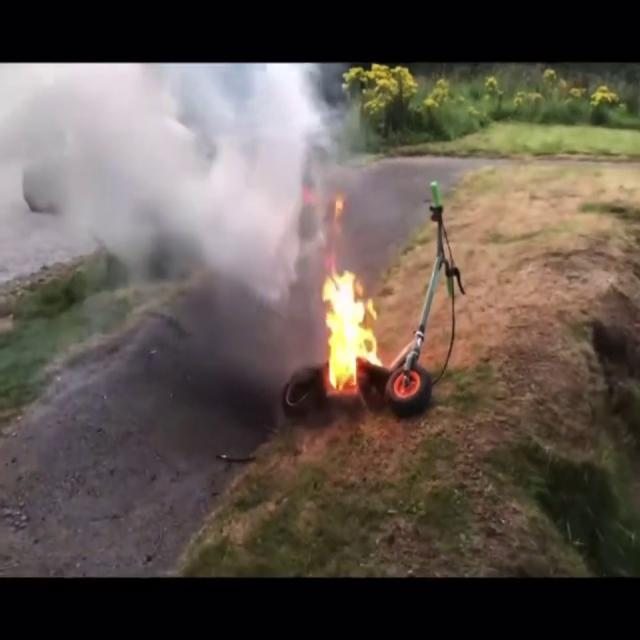Fire: (315, 260, 384, 394)
Smoke: (0, 63, 357, 296)
